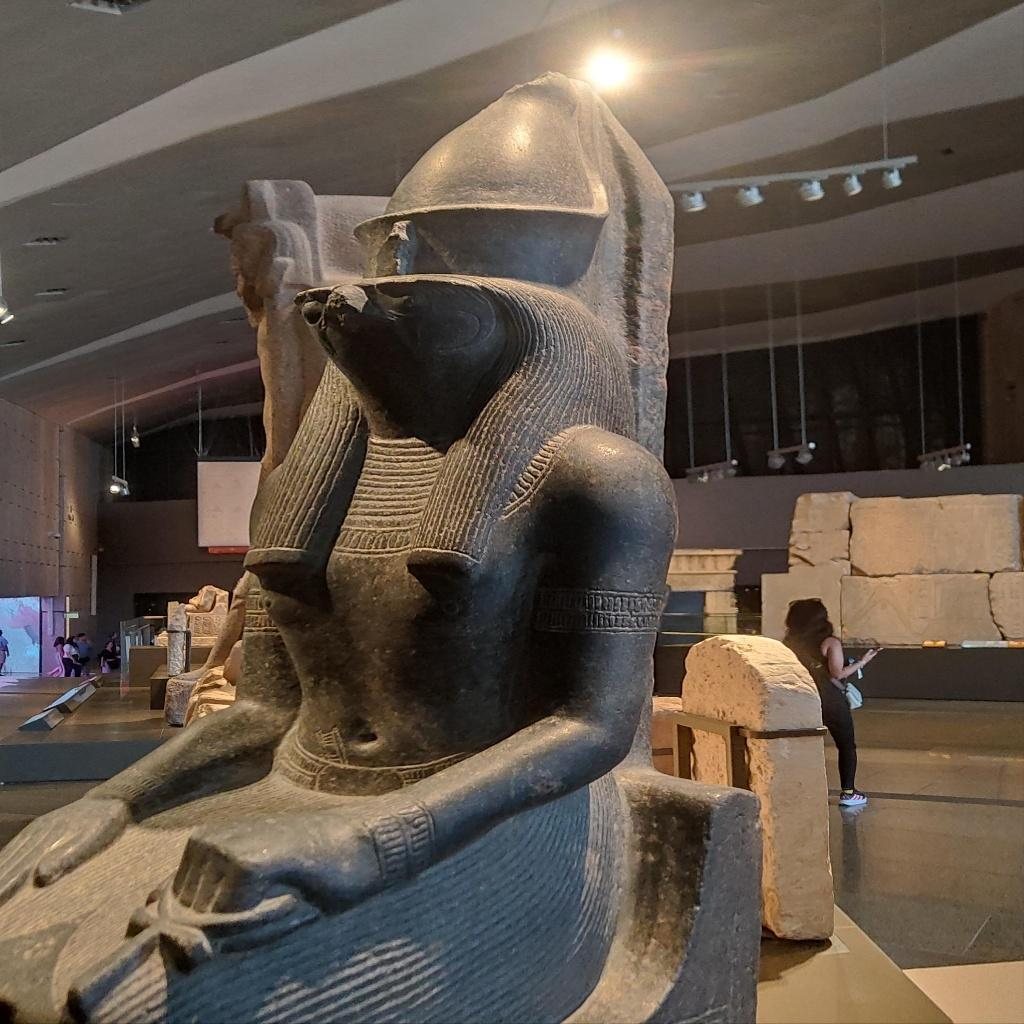Statue of God Ra-Horakhty: (27, 68, 764, 1016)
